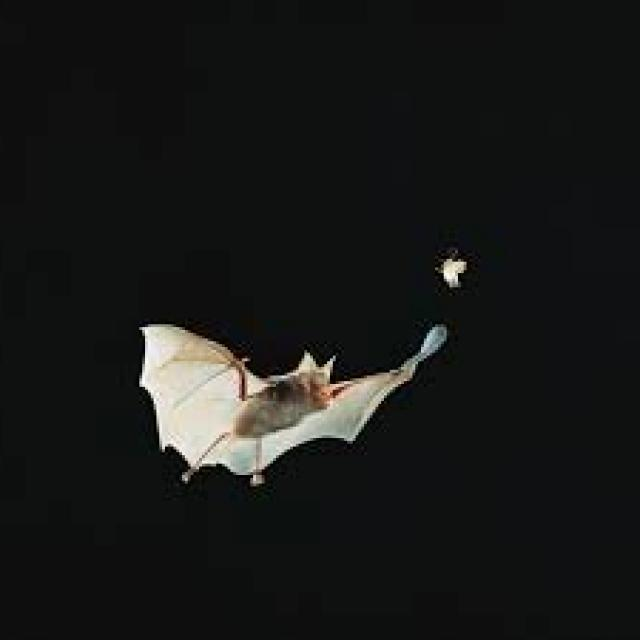bat: (142, 324, 447, 484)
